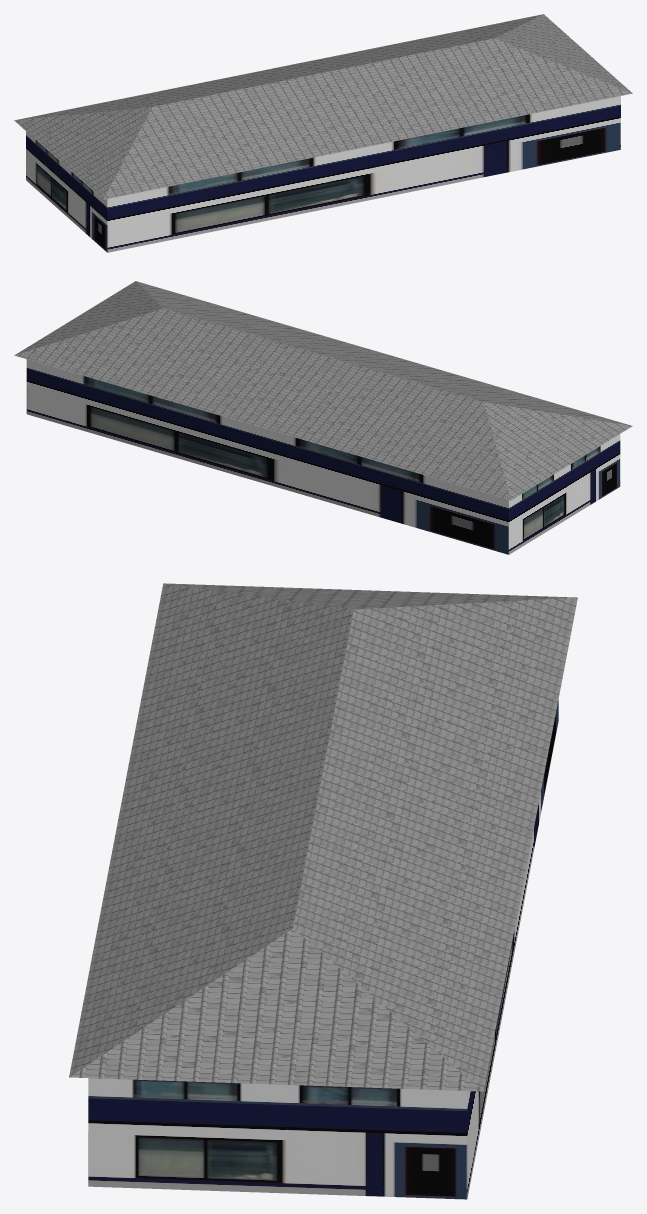
3 renders of one model, top to bottom at view 1: azimuth 30°, elevation 25°; view 2: azimuth 150°, elevation 25°; view 3: azimuth 270°, elevation 25°, orthographic. The views are drawn at different scales.
Parts seen in each view (by area): view 1: CityEngineMaterial_4_m, CityEngineMaterial_2_m; view 2: CityEngineMaterial_4_m, CityEngineMaterial_2_m; view 3: CityEngineMaterial_4_m, CityEngineMaterial_2_m.
Boxes of the visible parts, x1=… form: CityEngineMaterial_4_m: x1=14, y1=14, x2=632, y2=199; CityEngineMaterial_2_m: x1=26, y1=96, x2=620, y2=252; CityEngineMaterial_4_m: x1=14, y1=281, x2=632, y2=500; CityEngineMaterial_2_m: x1=26, y1=359, x2=620, y2=554; CityEngineMaterial_4_m: x1=69, y1=583, x2=577, y2=1091; CityEngineMaterial_2_m: x1=88, y1=700, x2=558, y2=1199.
Bounding box in the file's own units: 63.31 × 10.73 × 26.79.
